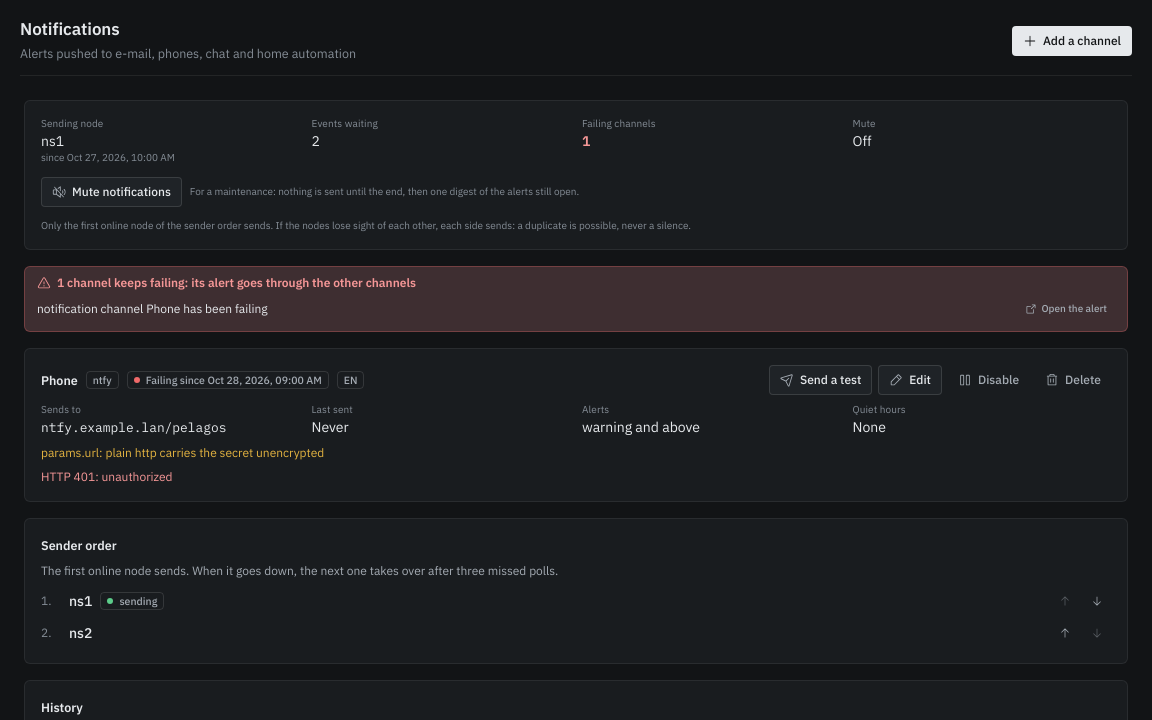
NotificationsPage › sends a test from a card and shows the service answer
Click the button with test id "notify-channel-test" at (821, 380), box x1=769 y1=365 x2=872 y2=395
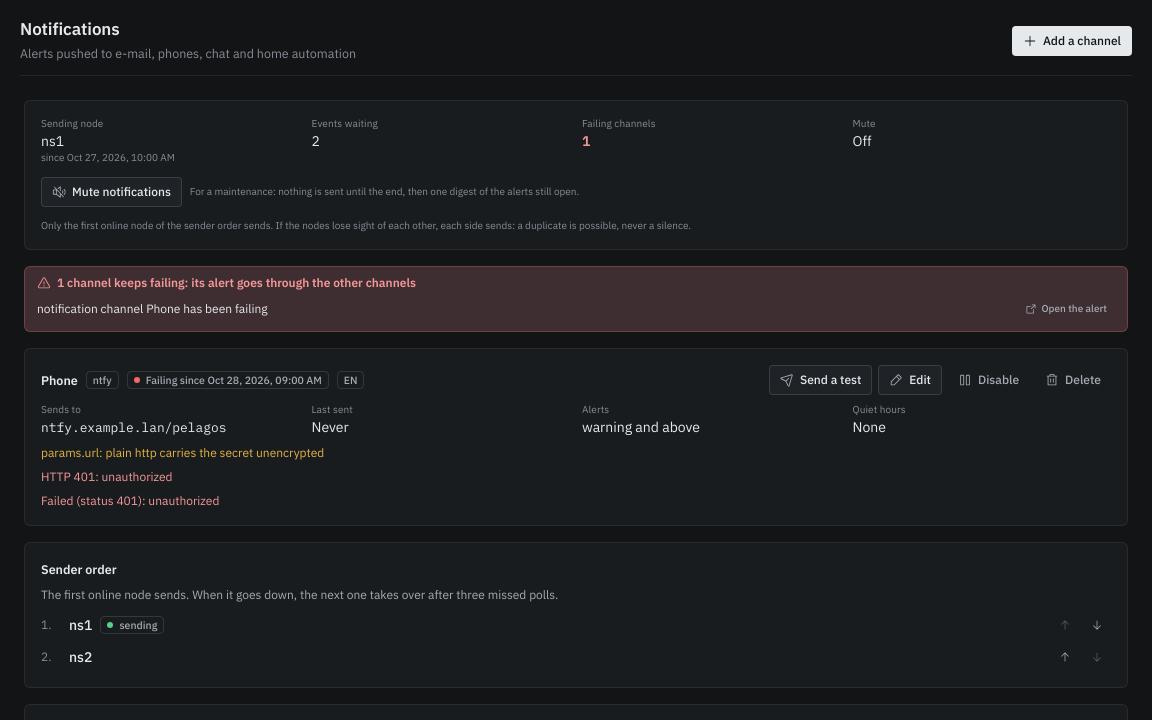
Result: the message with test id "notify-channel-test-result" shows "unauthorized" at x1=41 y1=493 x2=219 y2=508
